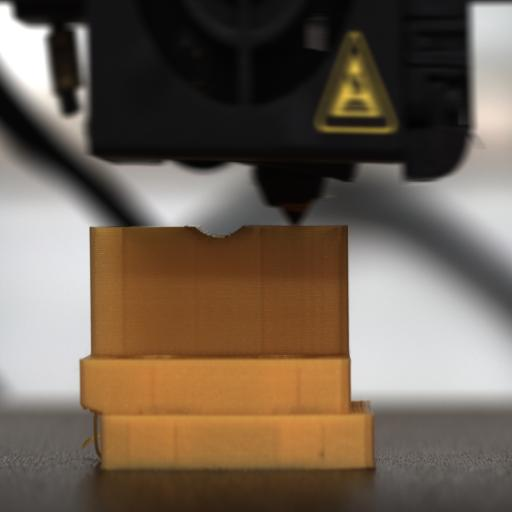layer_shift: (80, 393, 376, 422)
